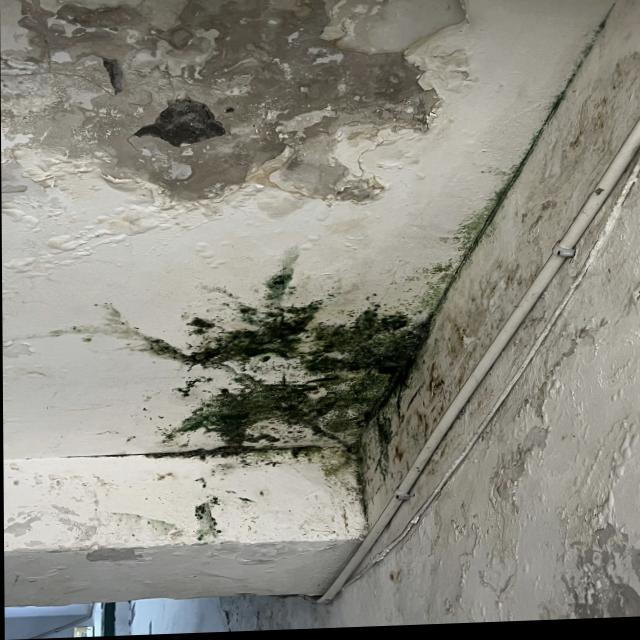mildew: (124, 195, 488, 502)
spalling: (5, 0, 475, 208), (485, 333, 597, 504), (563, 448, 640, 618), (57, 548, 152, 565)
